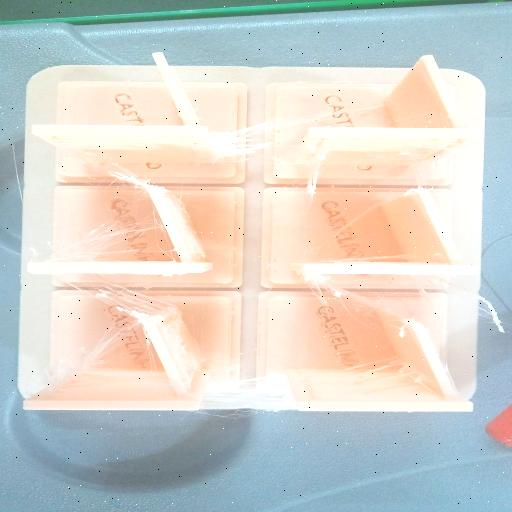stringing: (70, 222, 154, 260), (210, 378, 293, 414), (209, 128, 287, 162), (93, 282, 164, 318)
